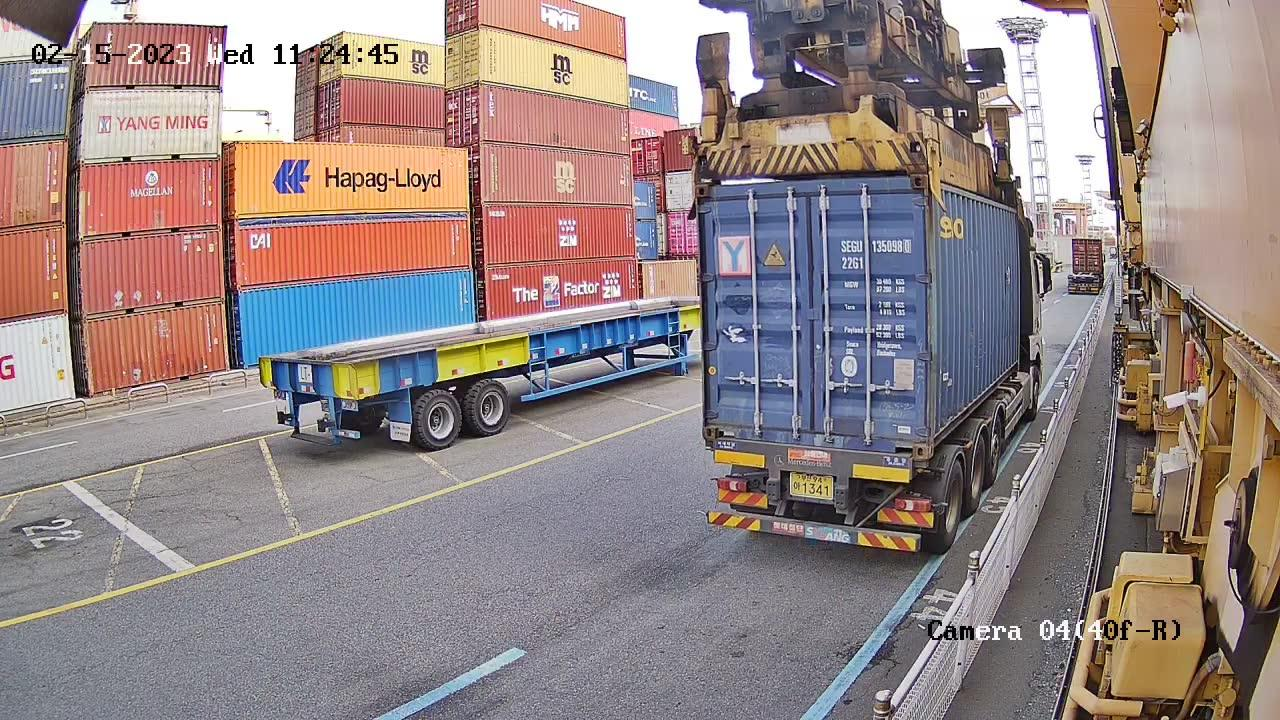Chassis: (706, 442, 914, 507)
Cone: (910, 459, 933, 477), (701, 442, 719, 460)
Hole_L: (702, 402, 736, 441), (930, 402, 950, 460)
Hole_R: (888, 419, 930, 461)
Tire: (936, 462, 966, 546), (966, 432, 989, 507), (988, 417, 1006, 479)
